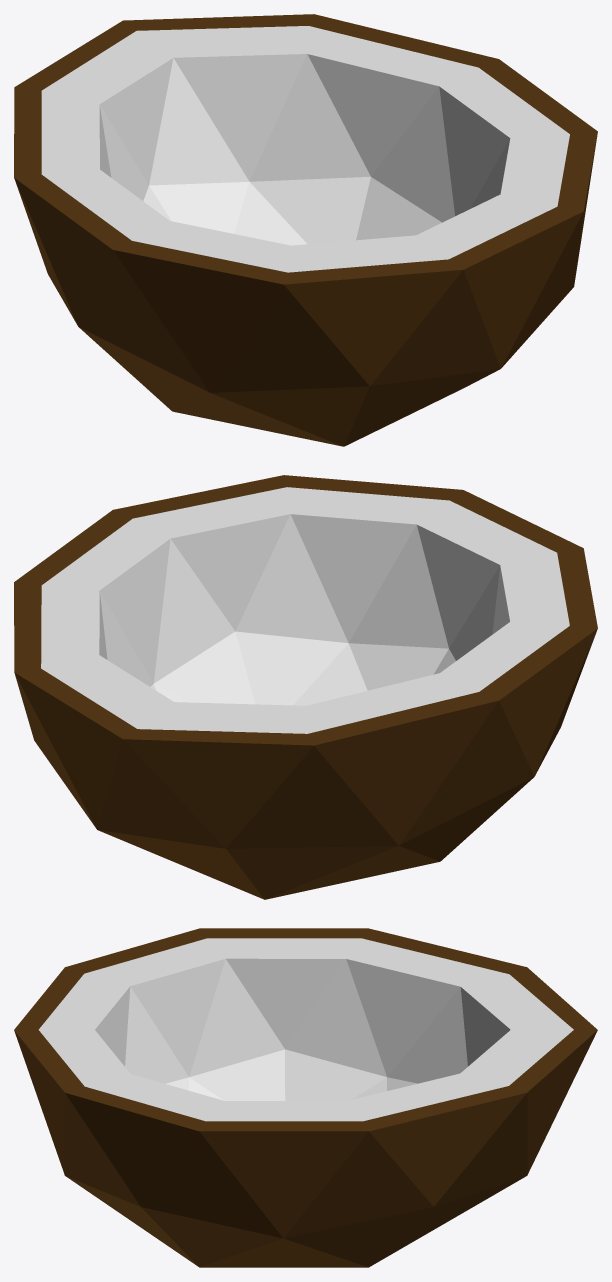
Rendered from coconut_open.fbx.
3 views of the same model, one above another, from view 1: azimuth 30°, elevation 25°; view 2: azimuth 150°, elevation 25°; view 3: azimuth 270°, elevation 25° (orthographic). The views are drawn at different scales.
Visible parts, largest first — view 1: Coconut Open; view 2: Coconut Open; view 3: Coconut Open.
Part boxes in pixels (left/top/right/bottom): Coconut Open: left=14, top=14, right=597, bottom=446; Coconut Open: left=14, top=475, right=597, bottom=899; Coconut Open: left=14, top=928, right=597, bottom=1267.
Bounding box in the file's own units: 190 × 98.89 × 231.
